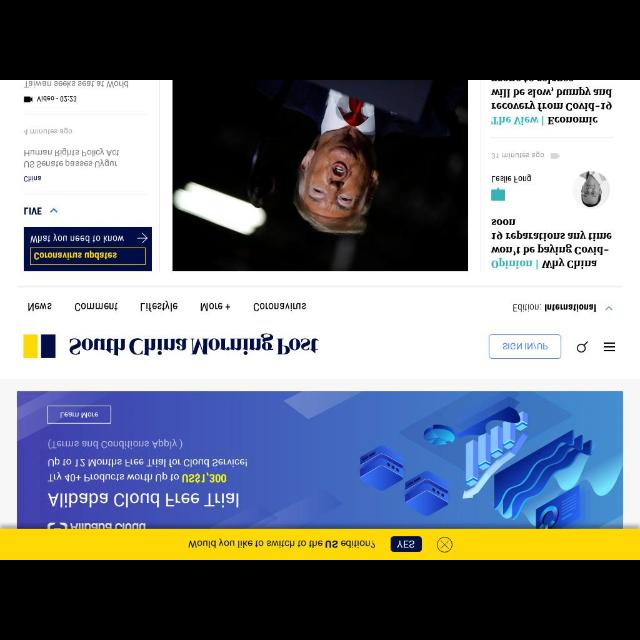backgroundimage: (358, 392, 600, 528)
button: (437, 538, 453, 552)
icon: (577, 341, 589, 353), (603, 342, 615, 352), (440, 540, 450, 548), (50, 208, 58, 212), (606, 306, 612, 310)
iframe: (1, 528, 639, 560)
image: (172, 81, 468, 271), (24, 227, 152, 271), (574, 171, 610, 209), (22, 334, 56, 358), (491, 187, 505, 201), (23, 96, 33, 102), (550, 153, 560, 159)
multitab: (28, 300, 306, 312)
panel: (17, 392, 623, 528)
spinner: (513, 304, 613, 312), (24, 207, 58, 216)
text: (491, 218, 611, 270), (69, 332, 319, 356), (491, 80, 613, 126), (47, 458, 247, 484), (48, 492, 240, 508), (24, 148, 120, 168), (187, 538, 375, 548), (48, 438, 184, 449), (23, 80, 128, 88), (513, 304, 597, 312), (254, 302, 306, 312), (140, 300, 178, 312), (74, 302, 118, 312), (492, 151, 544, 159), (24, 127, 72, 135), (502, 342, 548, 350), (492, 174, 530, 182), (200, 302, 230, 312), (27, 302, 51, 312), (37, 96, 77, 102), (60, 412, 98, 418), (396, 540, 414, 548), (24, 207, 42, 215), (24, 175, 41, 182)
textbutton: (488, 335, 562, 359), (47, 404, 111, 424), (391, 536, 422, 552)
